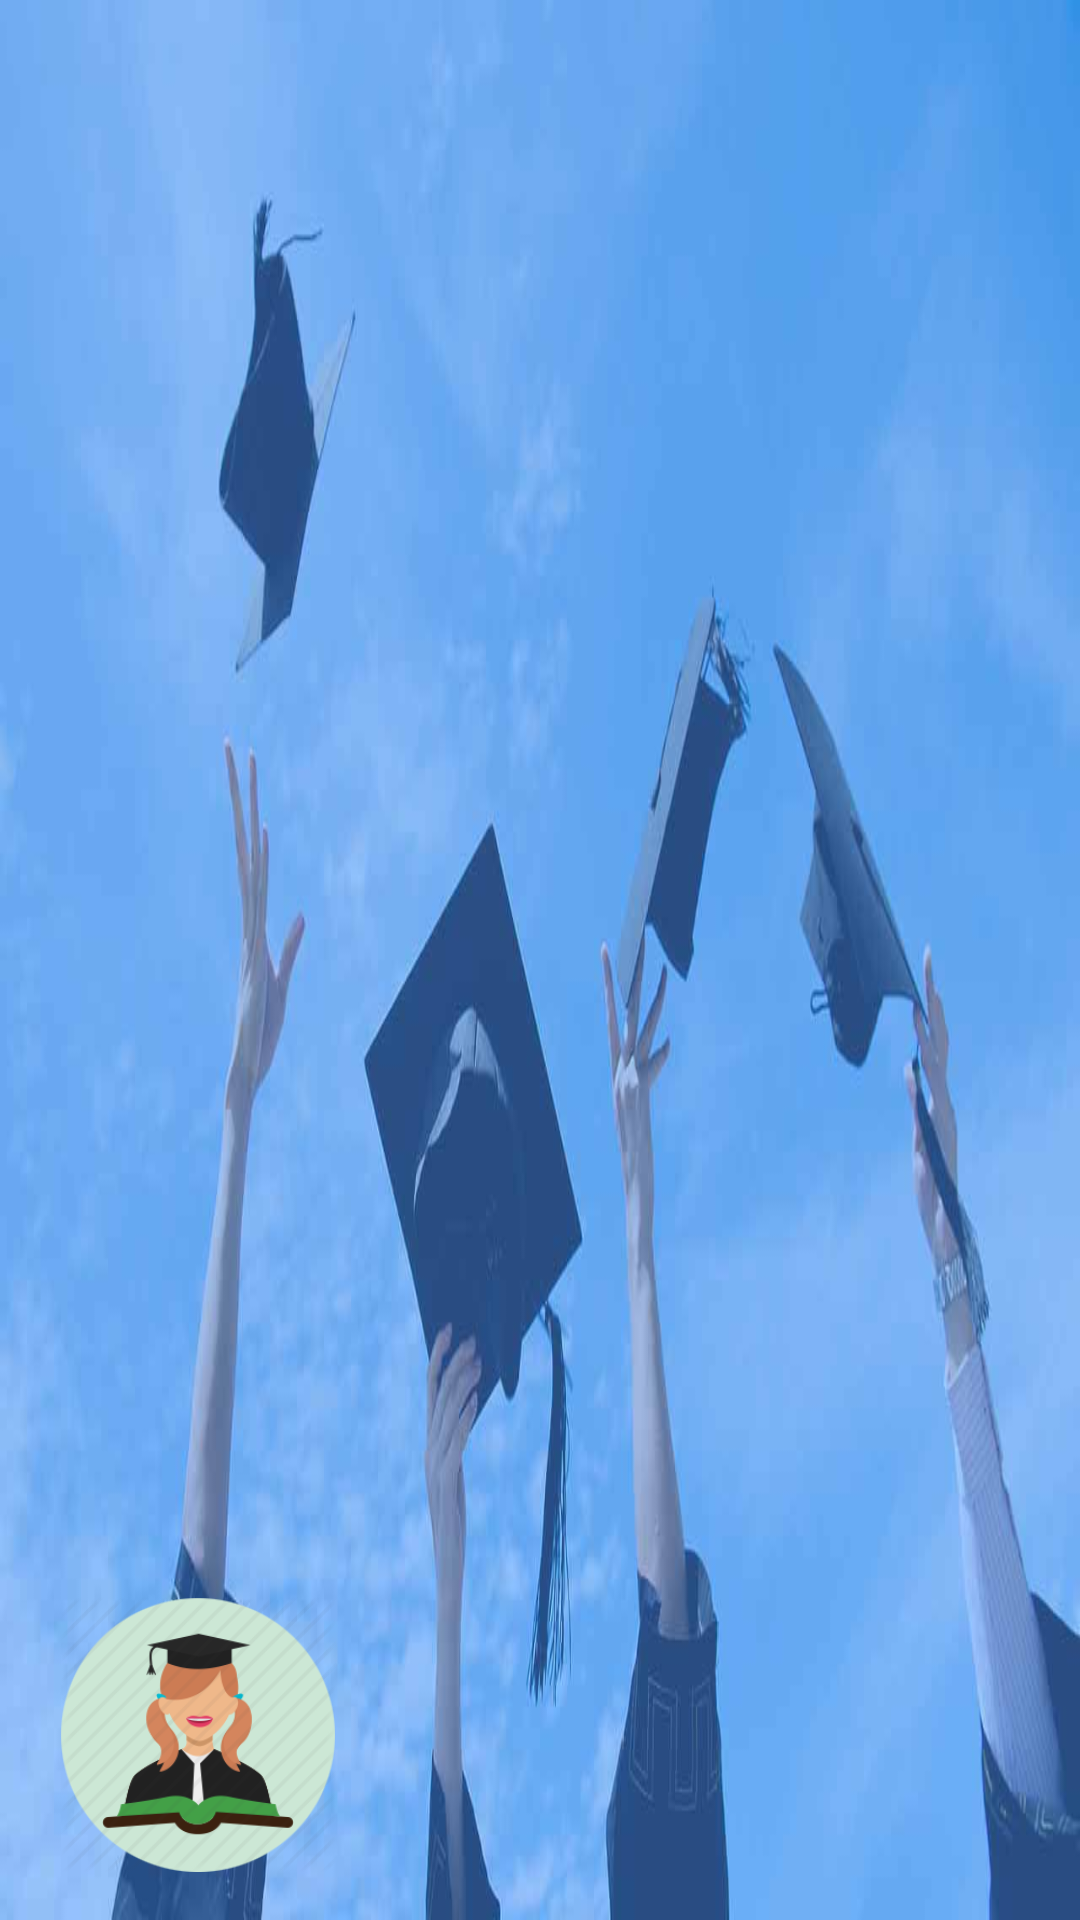

Named icons in this screenshot (1080px x 1920px) and their centers, [x,y]:
user: [201,1722]
